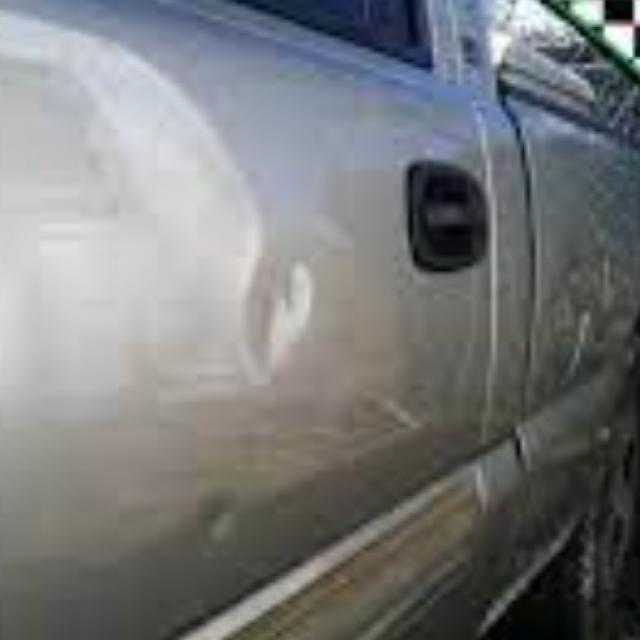dents: (240, 229, 319, 382), (192, 480, 249, 566)
